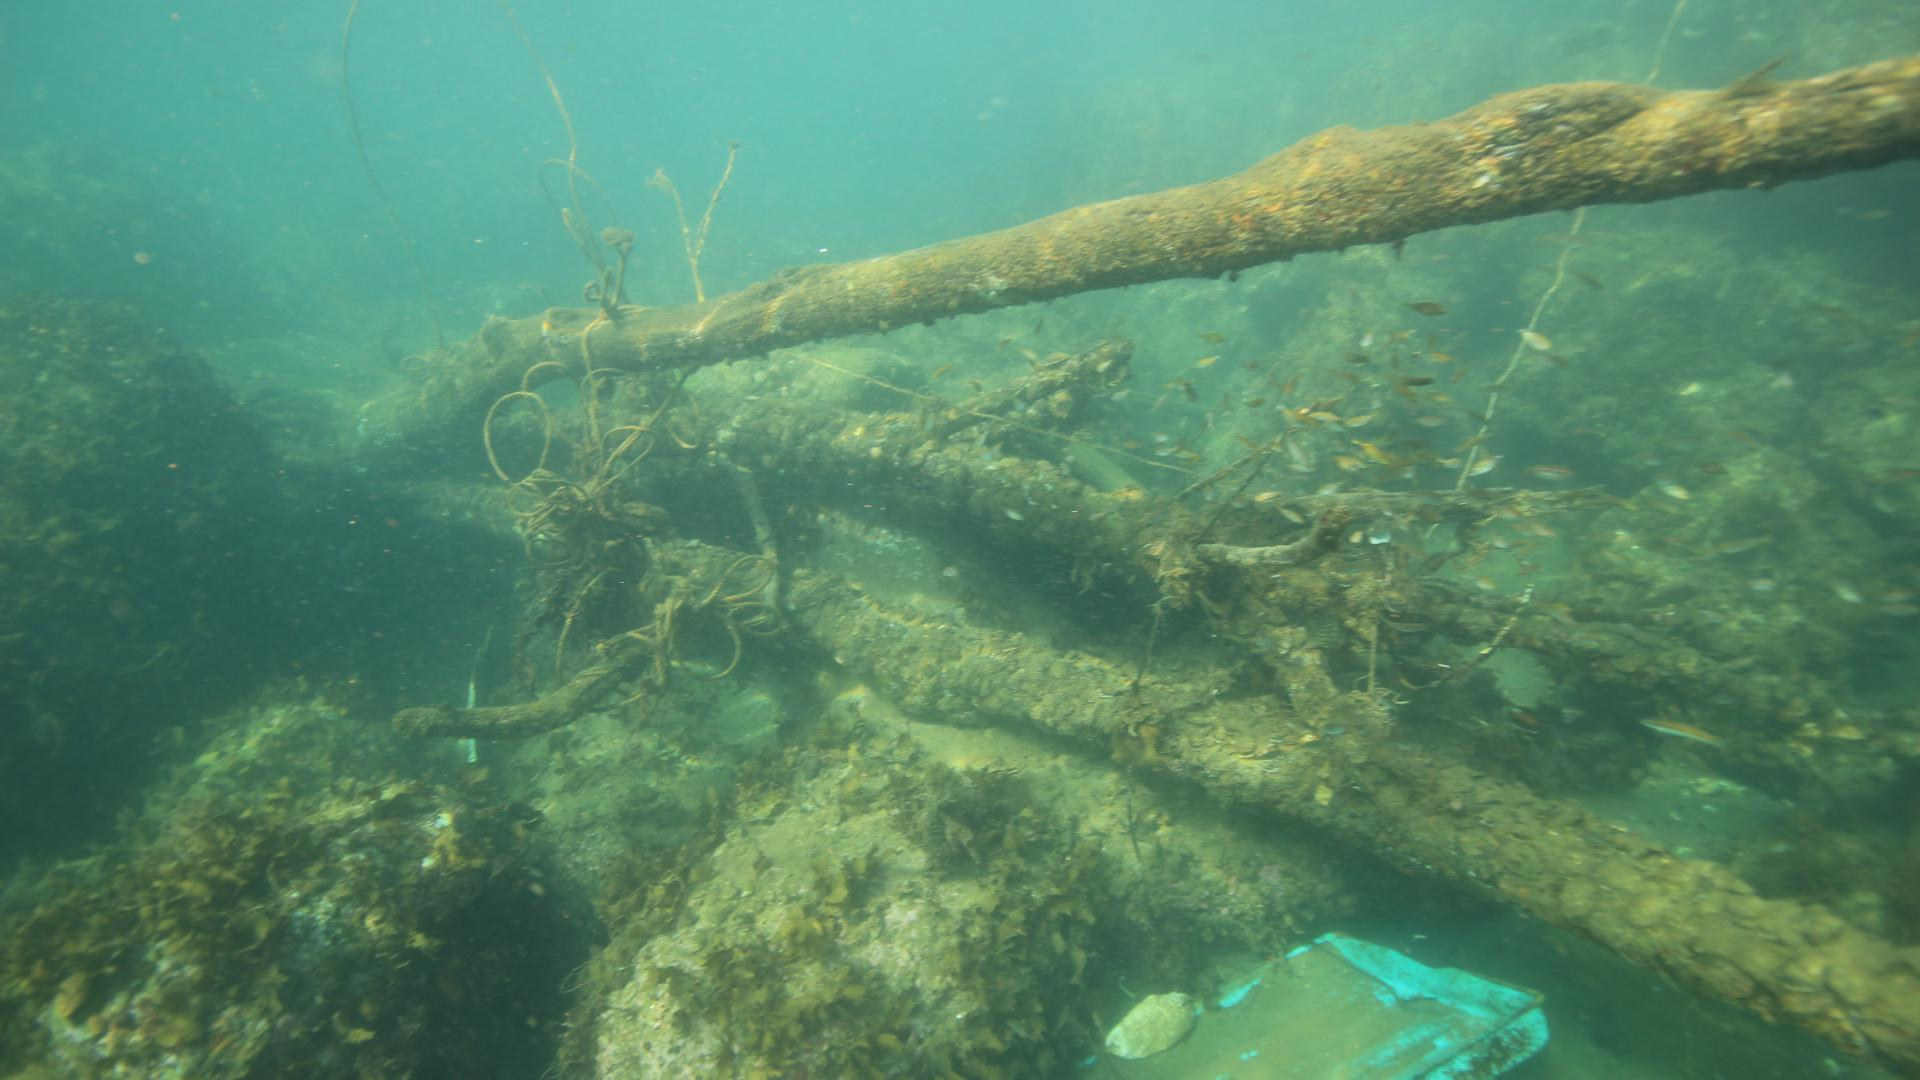bundle of ropes: (477, 0, 793, 711), (338, 0, 471, 433)
wood: (248, 54, 1920, 1080)
